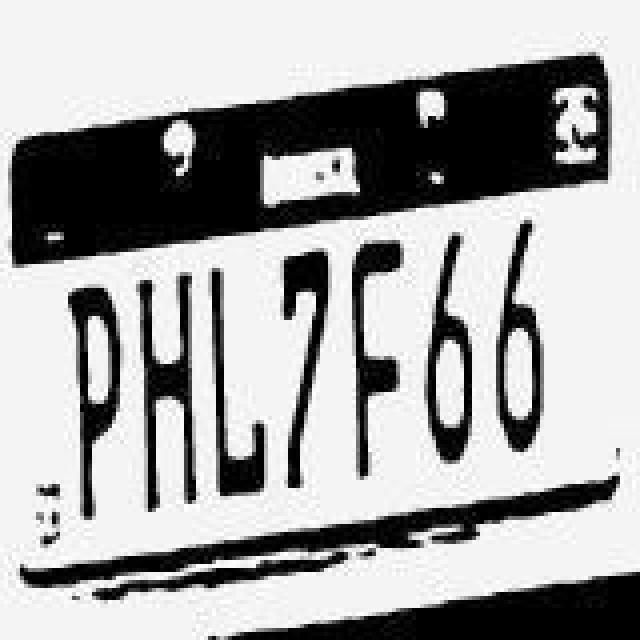6: (418, 236, 478, 468), (492, 218, 548, 454)
7: (276, 246, 332, 490)
F: (348, 238, 404, 482)
H: (140, 270, 196, 514)
L: (212, 266, 268, 502)
P: (68, 280, 124, 520)
